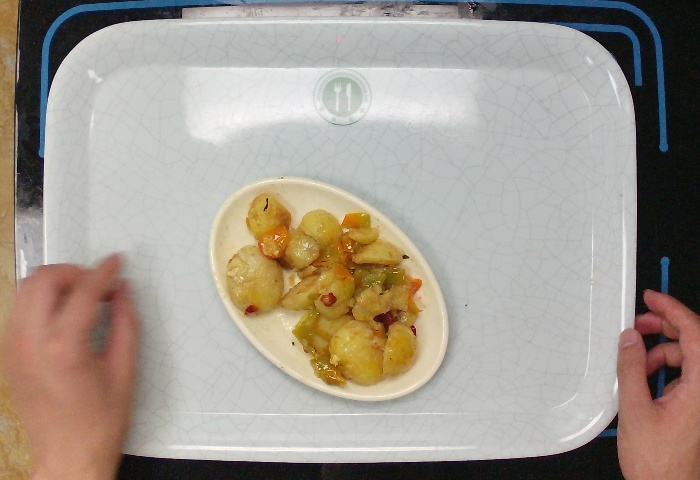JYsf-Tuo_Yuan_Wan: (204, 171, 448, 402)
